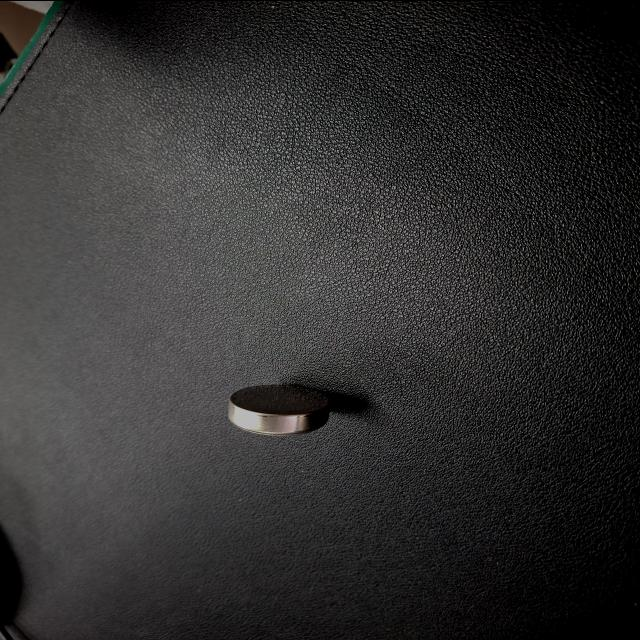COIN: (512, 392, 579, 468)
